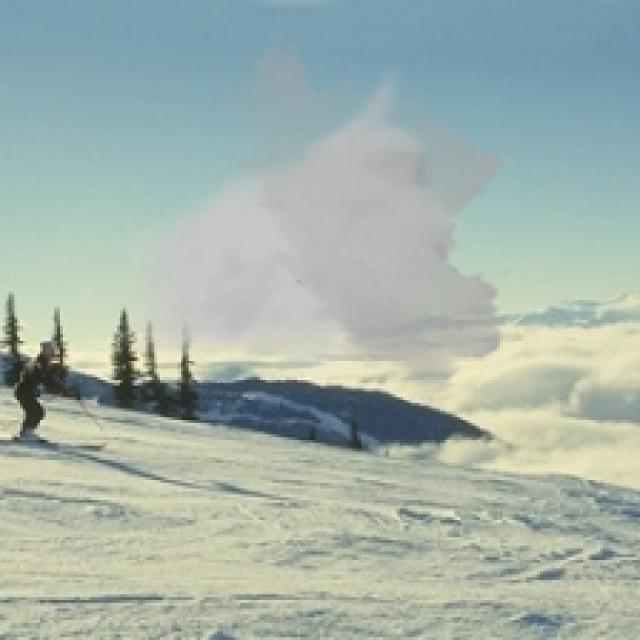Smoke: (112, 34, 514, 406)
